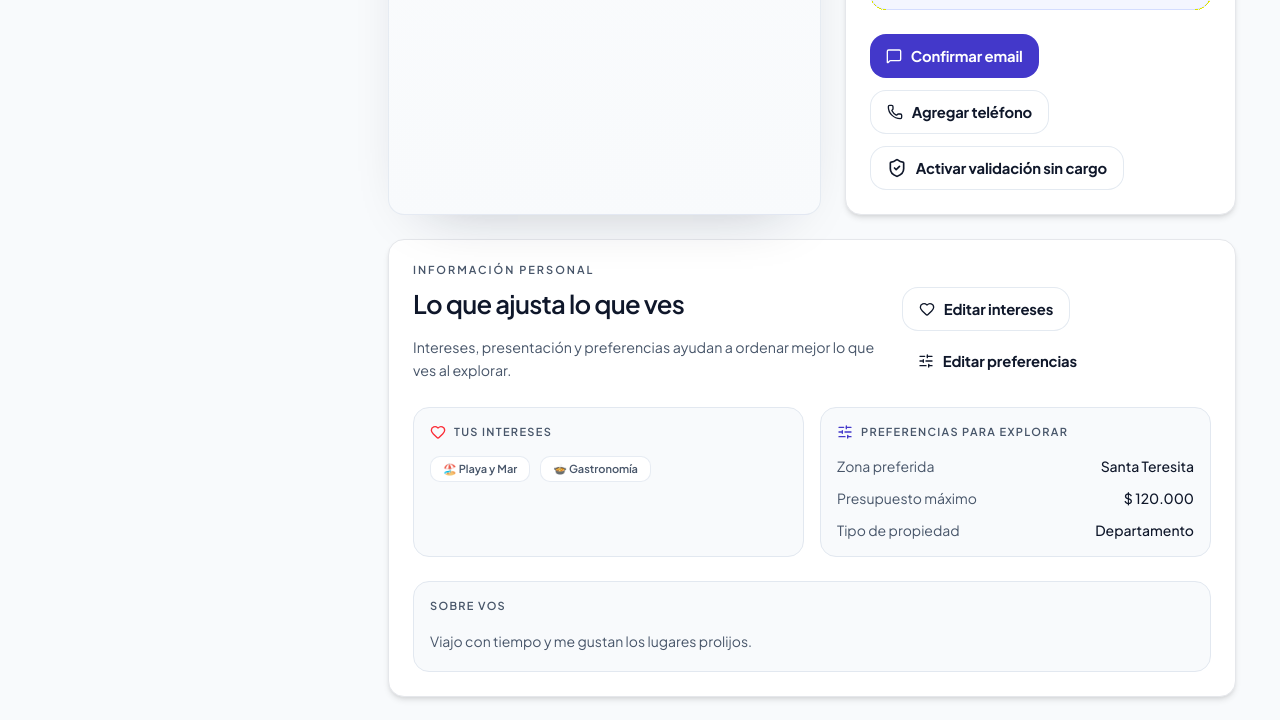
Test case: ProfileViewNew › opens the preferences modal with the updated form layout
(page scrolled)
Step 1. Click the button "Editar preferencias" → (998, 361), box [902, 339, 1093, 383]
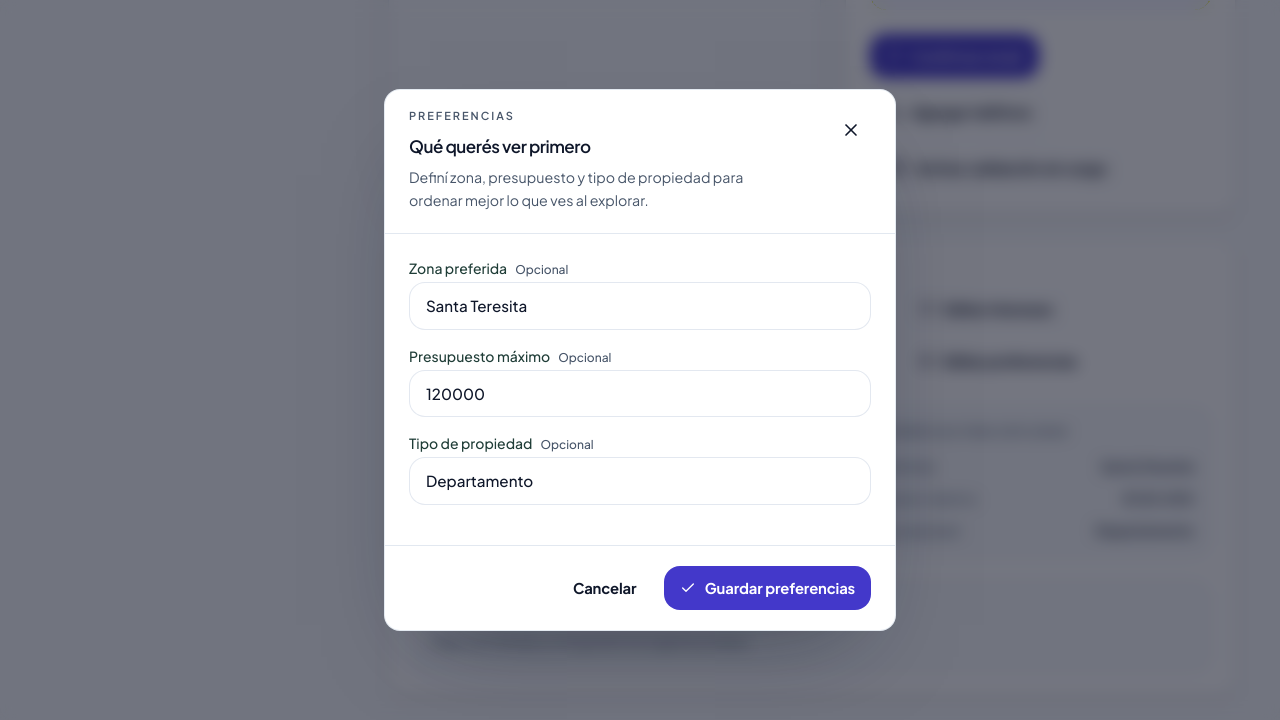
Check: the heading "Qué querés ver primero" is shown, box [409, 135, 591, 157]
Check: the dropdown labelled "Zona preferida" is shown, box [409, 282, 871, 330]
Check: the number field labelled "Presupuesto máximo" is shown, box [409, 370, 871, 417]
